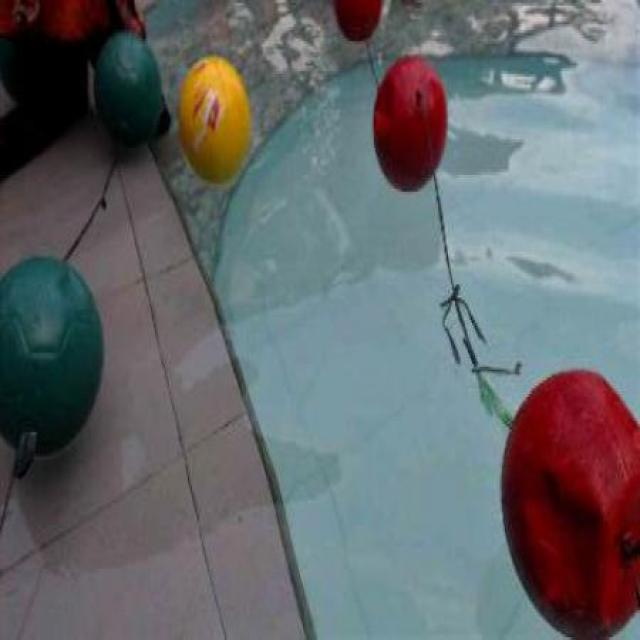buoy: (498, 365, 640, 636), (0, 253, 102, 456), (371, 53, 447, 193), (178, 51, 250, 184), (92, 28, 160, 146), (333, 2, 381, 42)
